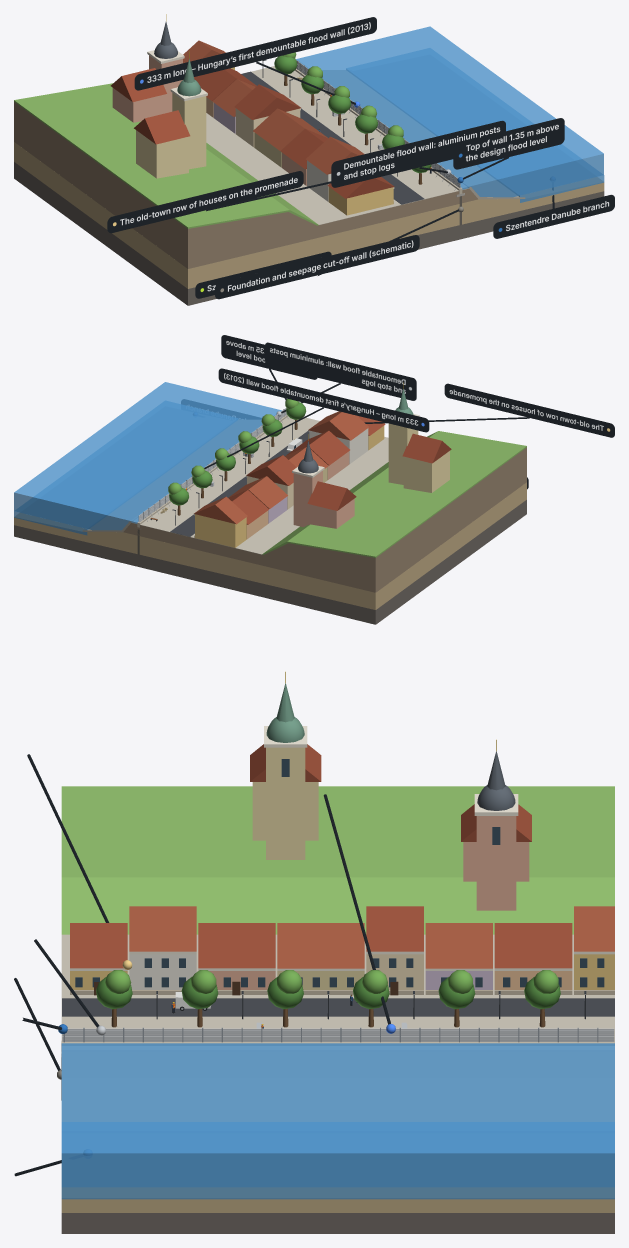
Rendered from mobilgat-feliratok-en.glb.
The picture shows the model from 3 angles, top to bottom: view 1: azimuth 30°, elevation 25°; view 2: azimuth 150°, elevation 25°; view 3: azimuth 270°, elevation 25°; orthographic projection. The views are drawn at different scales.
Visible parts, largest first — view 1: arviz_m, varos_m_a08d77, kisviz, varos_m_8fbf6a, varos_m_c9b48c, varos_m_d3cdbf, varos_m_9c4f38 (×2), varos_m_77706a, label_3, label_0, varos_m_a65a40, label_9 (+17 smaller); view 2: arviz_m, kisviz, varos_m_a08d77, varos_m_8fbf6a, varos_m_c9b48c, varos_m_77706a, varos_m_d3cdbf, varos_m_9c4f38 (×2), label_0, varos_m_b9b2a4, label_3, varos_m_a65a40 (+10 smaller); view 3: arviz_m, varos_m_8fbf6a, kisviz, varos_m_b9b2a4, varos_m_9c4f38 (×2), varos_m_c9b48c, varos_m_a65a40, varos_m_77706a, varos_m_d3cdbf, varos_m_4a4e55, varos_m_f2e3b0, varos_m_e9b8a0 (+17 smaller).
Part boxes in pixels (<box>): arviz_m: <box>296,26,603,197</box>; varos_m_a08d77: <box>14,102,477,268</box>; kisviz: <box>346,48,604,202</box>; varos_m_8fbf6a: <box>14,83,318,228</box>; varos_m_c9b48c: <box>14,142,604,288</box>; varos_m_d3cdbf: <box>206,66,468,224</box>; varos_m_9c4f38 (×2): <box>110,68,394,198</box>; varos_m_77706a: <box>14,162,604,305</box>; label_3: <box>134,17,376,90</box>; label_0: <box>331,120,505,187</box>; varos_m_a65a40: <box>183,40,364,174</box>; label_9: <box>215,235,419,299</box>; arviz_m: <box>14,382,281,530</box>; kisviz: <box>14,401,237,535</box>; varos_m_a08d77: <box>123,447,526,592</box>; varos_m_8fbf6a: <box>262,431,526,557</box>; varos_m_c9b48c: <box>14,482,526,609</box>; varos_m_77706a: <box>14,500,526,624</box>; varos_m_d3cdbf: <box>131,416,388,554</box>; varos_m_9c4f38 (×2): <box>228,415,451,524</box>; label_0: <box>265,342,416,400</box>; varos_m_b9b2a4: <box>82,420,261,532</box>; label_3: <box>218,368,429,432</box>; varos_m_a65a40: <box>194,411,368,524</box>; arviz_m: <box>61,1043,614,1187</box>; varos_m_8fbf6a: <box>61,786,614,934</box>; kisviz: <box>61,1122,614,1199</box>; varos_m_b9b2a4: <box>62,1050,614,1121</box>; varos_m_9c4f38 (×2): <box>70,744,572,968</box>; varos_m_c9b48c: <box>61,1188,614,1212</box>; varos_m_a65a40: <box>129,906,614,968</box>; varos_m_77706a: <box>61,1213,614,1233</box>; varos_m_d3cdbf: <box>61,934,614,1049</box>; varos_m_4a4e55: <box>62,998,614,1016</box>; varos_m_f2e3b0: <box>252,747,318,859</box>; varos_m_e9b8a0: <box>209,816,529,989</box>.
Size of the model in its own units: 0.7067 by 0.247 by 0.4562.
Materials: 66 (7 with a texture image).
